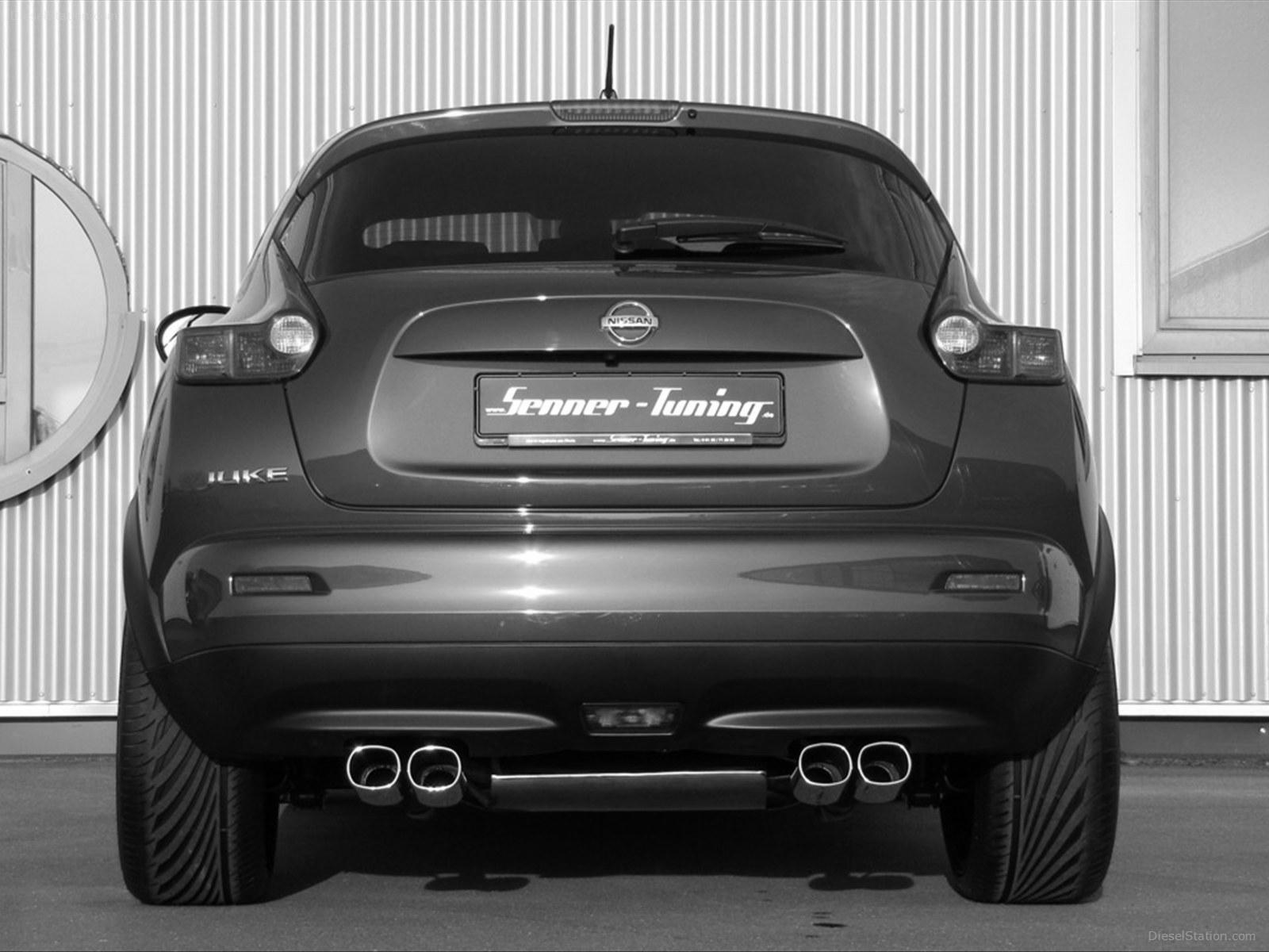car: (94, 22, 1129, 924)
